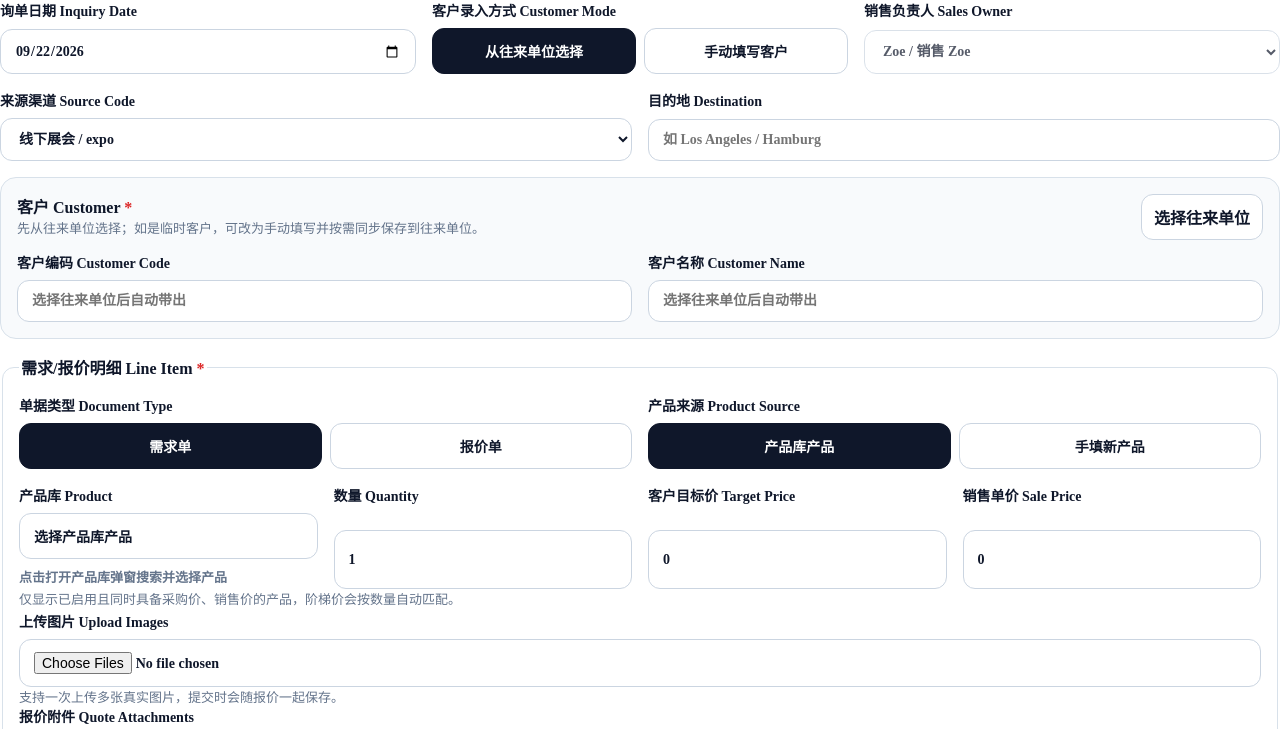
formal quote create page › recalculates sale price from tiered product pricing when quantity changes
Click the button with aria-label "选择产品库产品 Product Picker" at [83, 538], box x1=19 y1=513 x2=318 y2=559
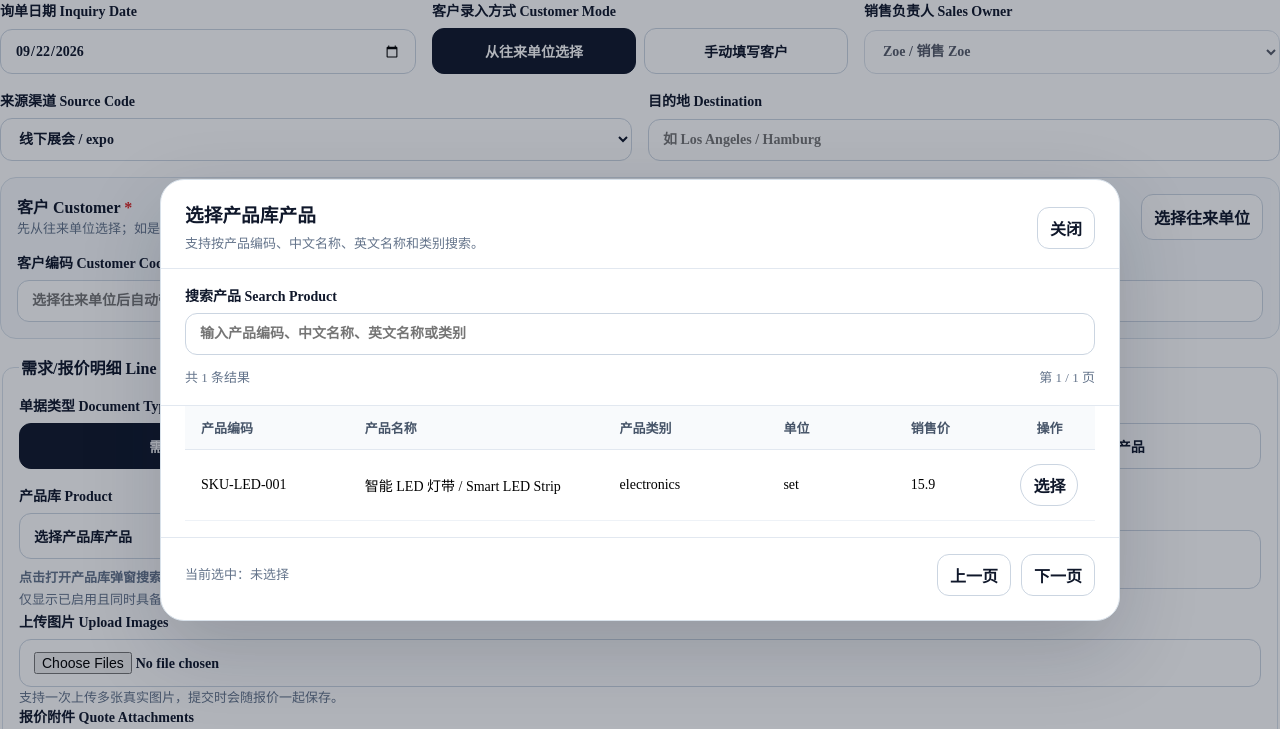
Check: the dialog "选择产品库产品" is shown, box x1=160 y1=179 x2=1120 y2=621
Type "LED" into the field labelled "搜索产品 Search Product" at [640, 334], box x1=185 y1=312 x2=1095 y2=354
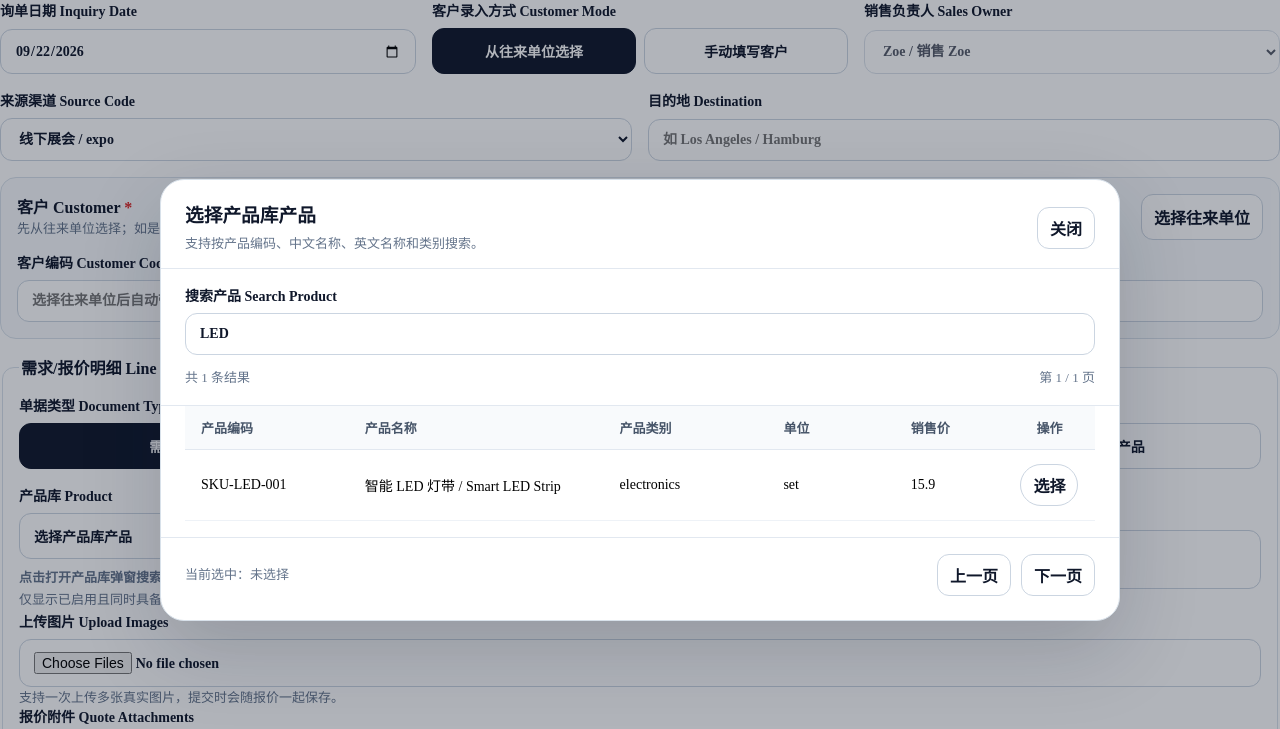
Click the button "选择" at [1050, 485], box x1=1020 y1=464 x2=1078 y2=506
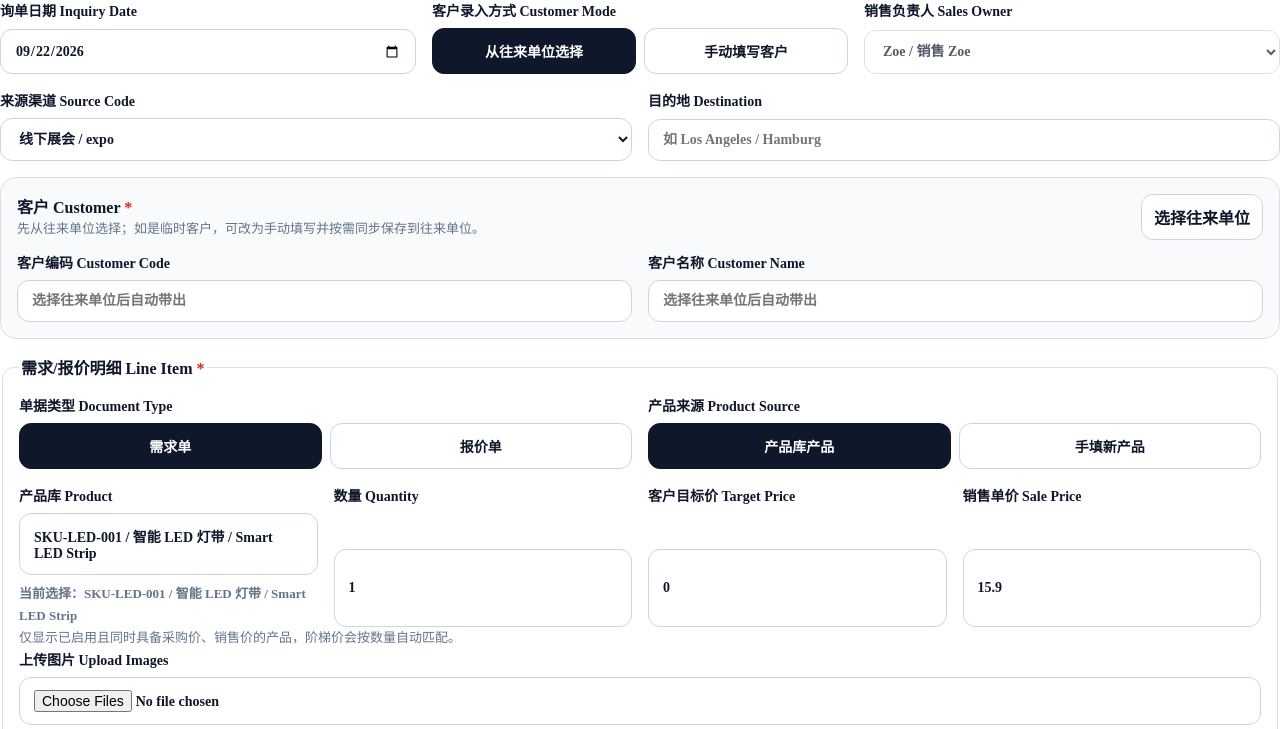
Check: the number field labelled "销售单价 Sale Price" holds "15.9", box x1=962 y1=549 x2=1261 y2=627
Replace the text in the number field labelled "数量 Quantity" with "120" at [483, 588], box x1=334 y1=549 x2=632 y2=627
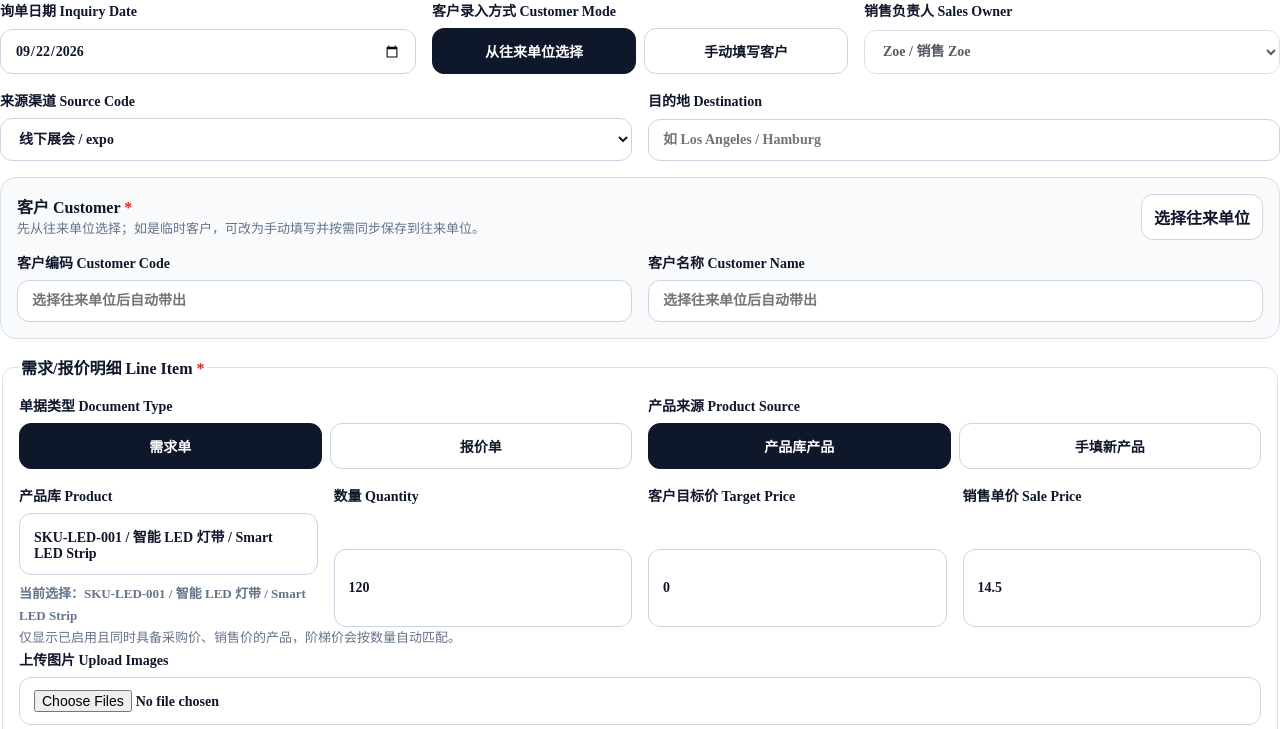
Check: the number field labelled "销售单价 Sale Price" holds "14.5", box x1=962 y1=549 x2=1261 y2=627
